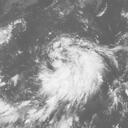cyclone: (39, 35, 107, 105)
